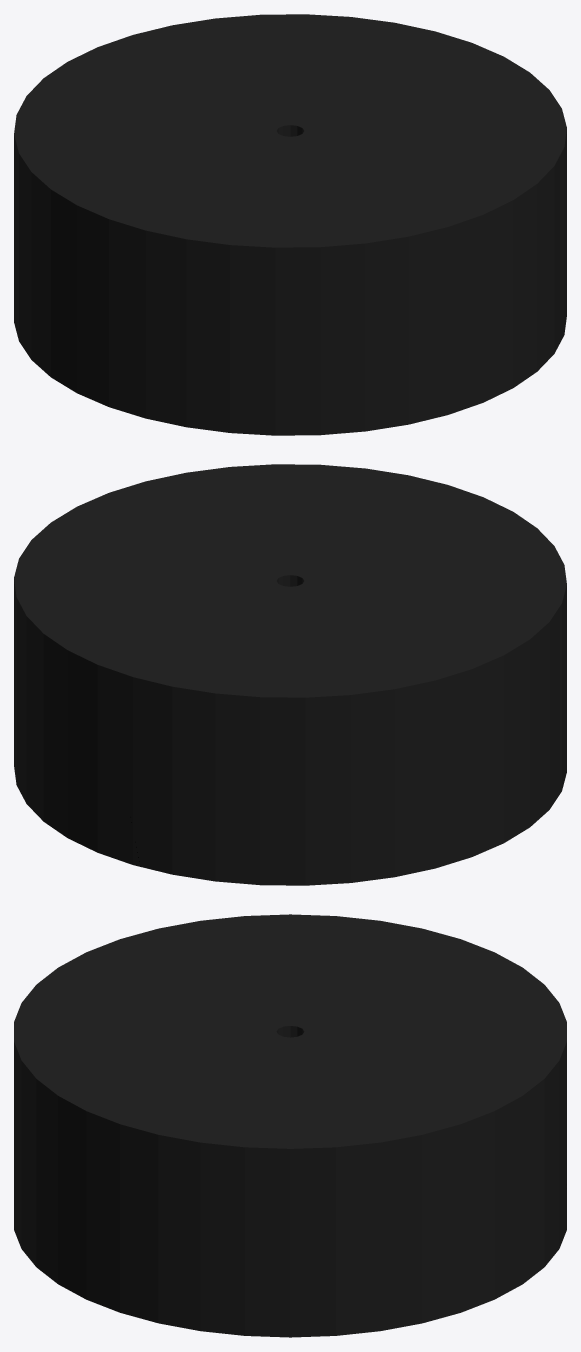
Rendered from lidar.dae.
The picture shows the model from 3 angles, top to bottom: view 1: azimuth 30°, elevation 25°; view 2: azimuth 150°, elevation 25°; view 3: azimuth 270°, elevation 25°; orthographic projection.
Visible parts, largest first — view 1: lidar; view 2: lidar; view 3: lidar.
Boxes of the visible parts, <box> form: lidar: <box>14,14,566,435</box>; lidar: <box>14,464,566,885</box>; lidar: <box>14,914,566,1337</box>.
Size of the model in its own units: 0.2032 by 0.2025 by 0.0762.
Materials: 1 (1 with a texture image).
